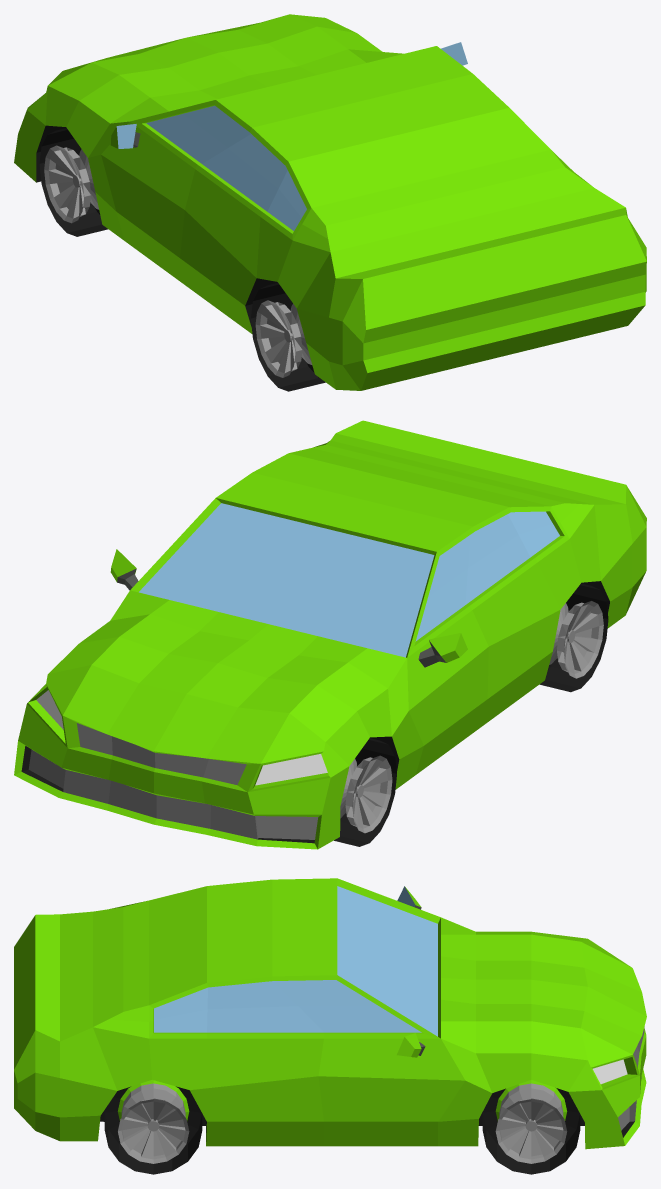
File: LowPoly Car.fbx
3 views of the same model, one above another, from view 1: azimuth 30°, elevation 25°; view 2: azimuth 150°, elevation 25°; view 3: azimuth 270°, elevation 25° (orthographic). The views are drawn at different scales.
Visible parts, largest first — view 1: Body, WheelRL, WheelFL; view 2: Body, WheelRL, WheelFL; view 3: Body, WheelRR, WheelFR.
Boxes of the visible parts, <box> form: Body: <box>14,14,646,390</box>; WheelRL: <box>251,283,325,391</box>; WheelFL: <box>39,128,107,236</box>; Body: <box>14,420,646,849</box>; WheelRL: <box>539,583,608,692</box>; WheelFL: <box>334,738,396,846</box>; Body: <box>14,878,646,1149</box>; WheelRR: <box>104,1080,202,1174</box>; WheelFR: <box>482,1080,580,1174</box>.
Bounding box in the file's own units: 252 × 139 × 440.
